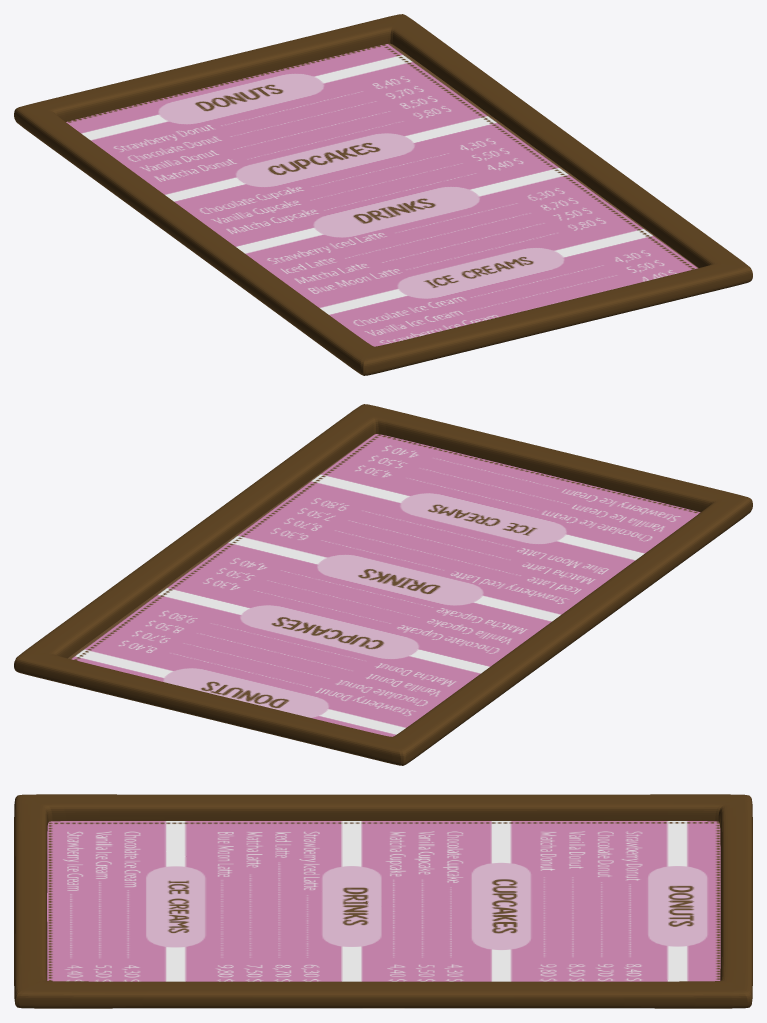
Rendered from SweetShopMenu-2.fbx.
The picture shows the model from 3 angles, top to bottom: view 1: azimuth 30°, elevation 25°; view 2: azimuth 150°, elevation 25°; view 3: azimuth 270°, elevation 25°; orthographic projection. The views are drawn at different scales.
Visible parts, largest first — view 1: SweetShop-Menu-1, SweetShop-MenuFrame-2; view 2: SweetShop-Menu-1, SweetShop-MenuFrame-2; view 3: SweetShop-Menu-1, SweetShop-MenuFrame-2.
Boxes of the visible parts, box(x1,y1,x2,y2) form: SweetShop-Menu-1: box(66, 43, 698, 346); SweetShop-MenuFrame-2: box(14, 14, 752, 375); SweetShop-Menu-1: box(68, 434, 700, 736); SweetShop-MenuFrame-2: box(14, 404, 752, 765); SweetShop-Menu-1: box(47, 821, 720, 981); SweetShop-MenuFrame-2: box(14, 794, 752, 1008).
Bounding box in the file's own units: 130 × 4.99 × 202.
2 materials, 1 textured.
